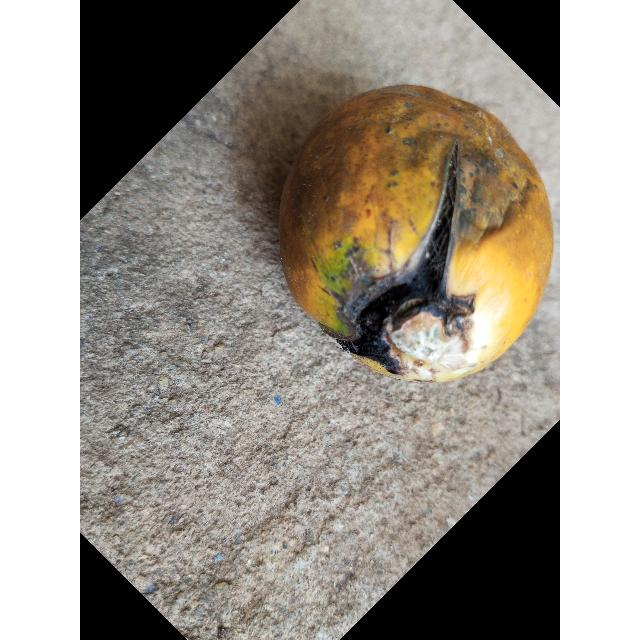damaged: (279, 84, 553, 385)
